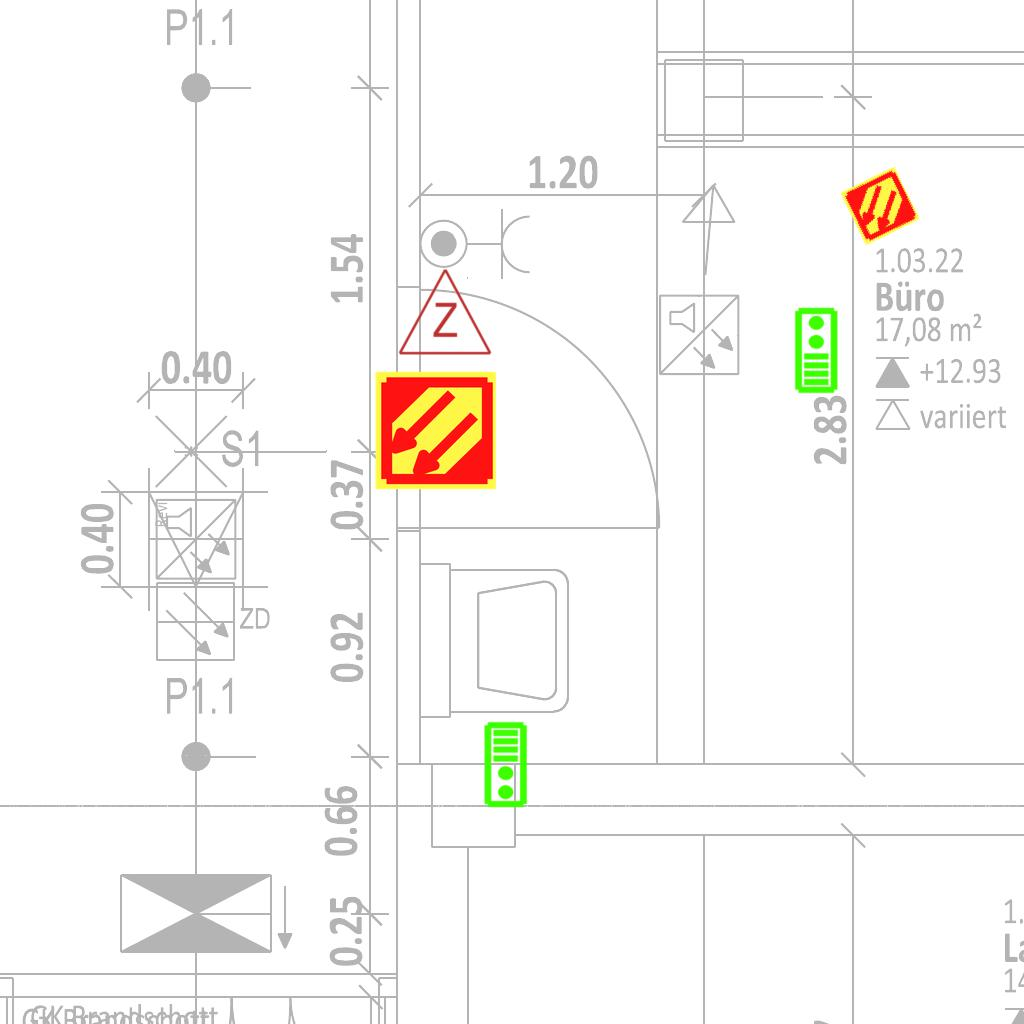ASR_Ansaugrauchmelder: (373, 368, 498, 493), (838, 164, 922, 248)
Gegensprechanlage_mit_Video: (483, 721, 530, 809), (792, 306, 839, 394)
Zimmersignalleuchte: (395, 262, 493, 362)
